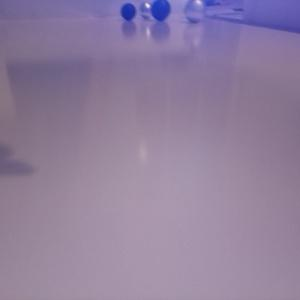alive_ball: (184, 1, 206, 23), (139, 2, 153, 18)
dead_ball: (151, 1, 171, 21), (120, 3, 137, 21)
